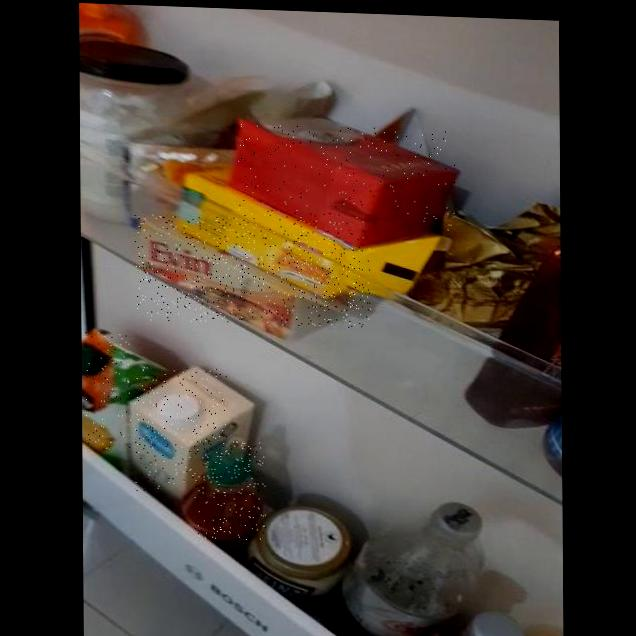butter: (135, 214, 371, 329)
cream: (233, 122, 455, 232)
juice: (86, 332, 131, 451)
milk: (134, 366, 228, 494)
sauce: (194, 440, 266, 541)
